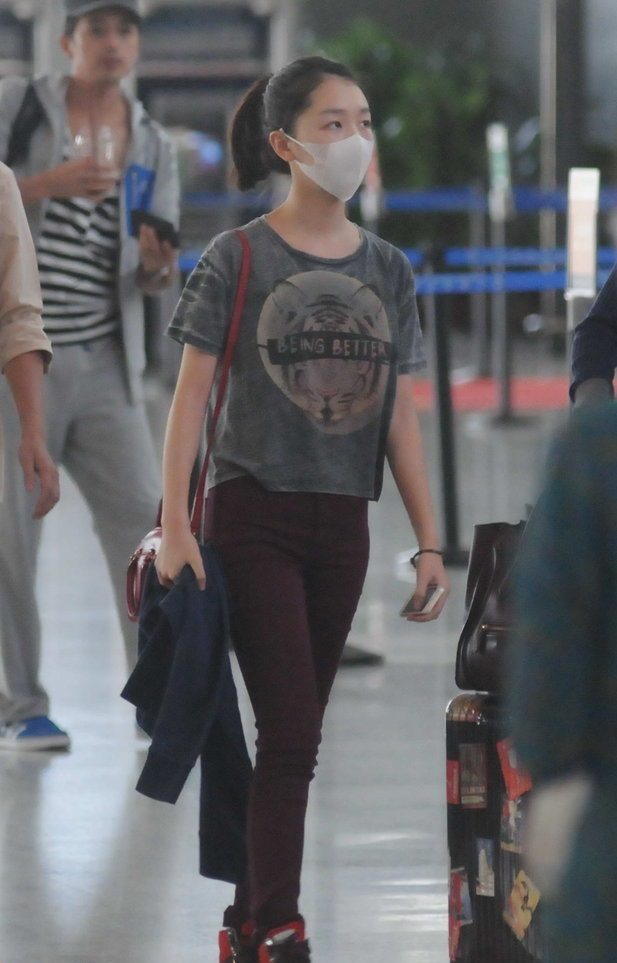face: (75, 1, 135, 91)
face_mask: (295, 74, 374, 201)
